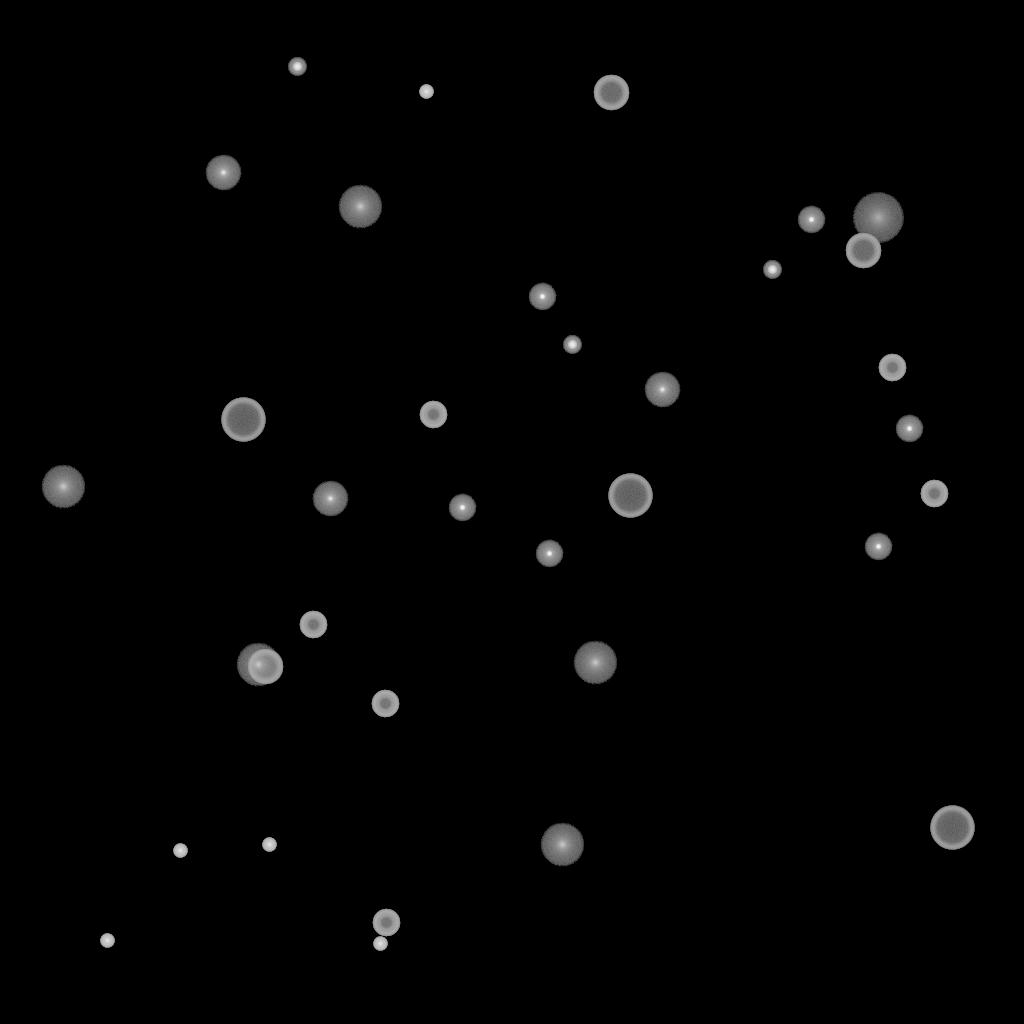depth:-10: (528, 283, 556, 311), (797, 206, 825, 234), (895, 415, 923, 443), (864, 533, 892, 561), (448, 494, 476, 522), (535, 540, 563, 568)
depth:-20: (563, 336, 581, 354), (288, 58, 306, 76), (763, 261, 781, 279)
depth:-30: (373, 937, 387, 951), (419, 85, 433, 99), (173, 844, 187, 858), (262, 838, 276, 852), (100, 934, 114, 948)
depth:-50: (299, 611, 327, 639), (372, 909, 400, 937), (920, 480, 948, 508), (419, 401, 447, 429), (371, 690, 399, 718), (878, 354, 906, 382)
depth:-60: (247, 649, 283, 685), (845, 233, 881, 269), (593, 75, 629, 111)
depth:-70: (930, 806, 974, 850), (608, 474, 652, 518), (221, 398, 265, 442)
depth:0: (205, 155, 241, 191), (312, 481, 348, 517), (644, 372, 680, 408)
depth:10: (540, 823, 584, 867), (41, 465, 85, 509), (338, 185, 382, 229), (236, 643, 280, 687), (573, 641, 617, 685)
depth:20: (852, 193, 904, 243)
